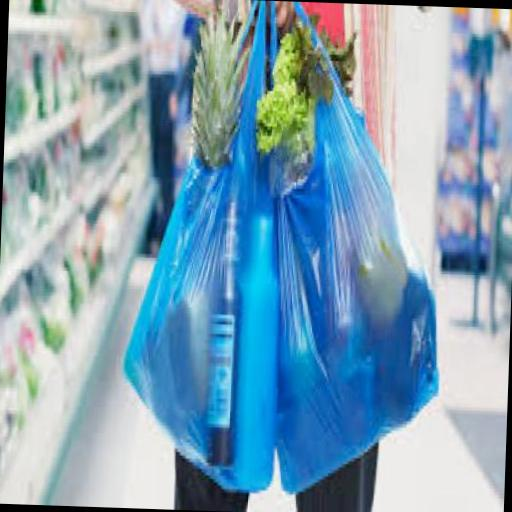biodegradable: (186, 7, 254, 164), (250, 16, 316, 170), (313, 21, 356, 94), (300, 47, 331, 96)
plastic: (251, 0, 450, 496), (118, 0, 289, 490)
